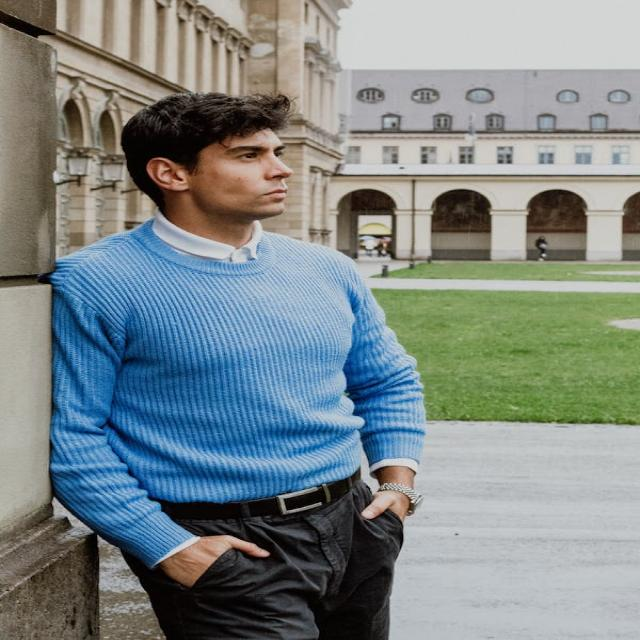Real human 2: (52, 84, 483, 640)
